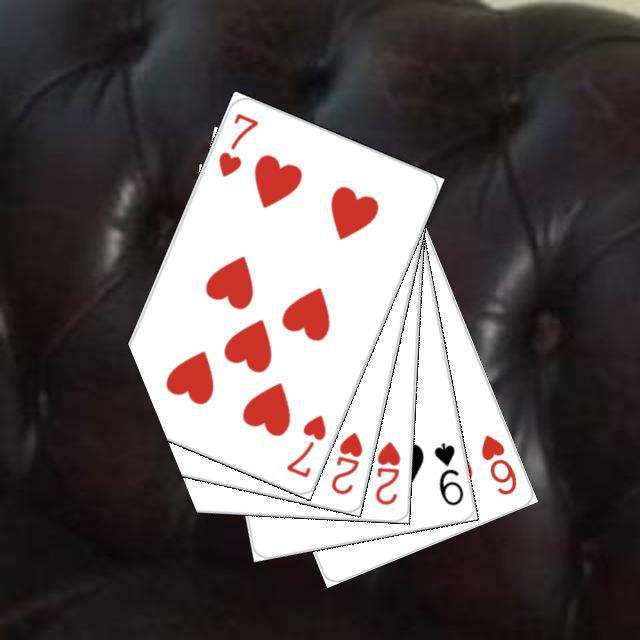2h: (326, 427, 364, 497), (370, 437, 402, 507)
6h: (476, 429, 519, 497)
7h: (213, 107, 260, 179), (281, 410, 328, 480)
9s: (429, 438, 465, 507)
